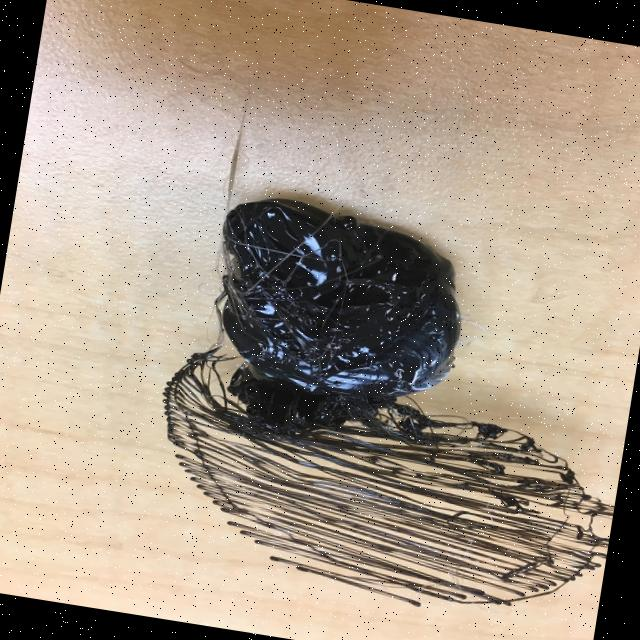stringing: (110, 337, 629, 640)
